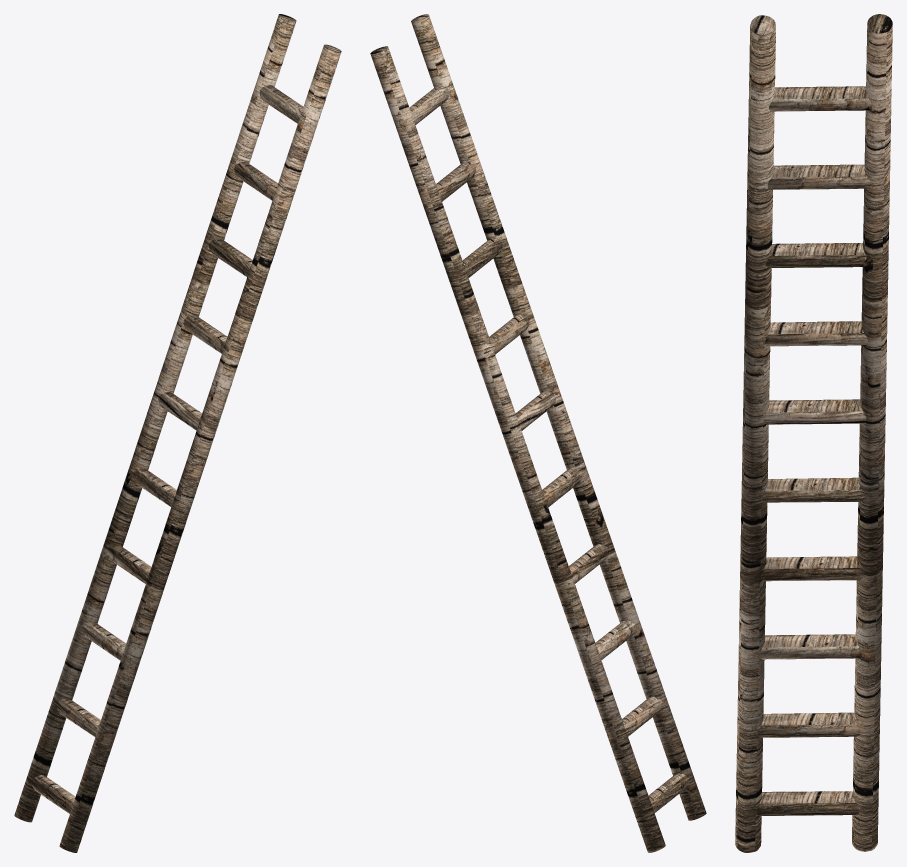
File: ladder.FBX
3 renders of one model, left to right at view 1: azimuth 30°, elevation 25°; view 2: azimuth 150°, elevation 25°; view 3: azimuth 270°, elevation 25°, orthographic. The views are drawn at different scales.
Parts seen in each view (by area): view 1: Ladder; view 2: Ladder; view 3: Ladder.
Part boxes in pixels (bbox=[...]): Ladder: bbox=[14, 14, 341, 852]; Ladder: bbox=[370, 14, 706, 852]; Ladder: bbox=[735, 14, 892, 852].
Bounding box in the file's own units: 264 × 647 × 91.72.
Materials: 1 (1 with a texture image).
